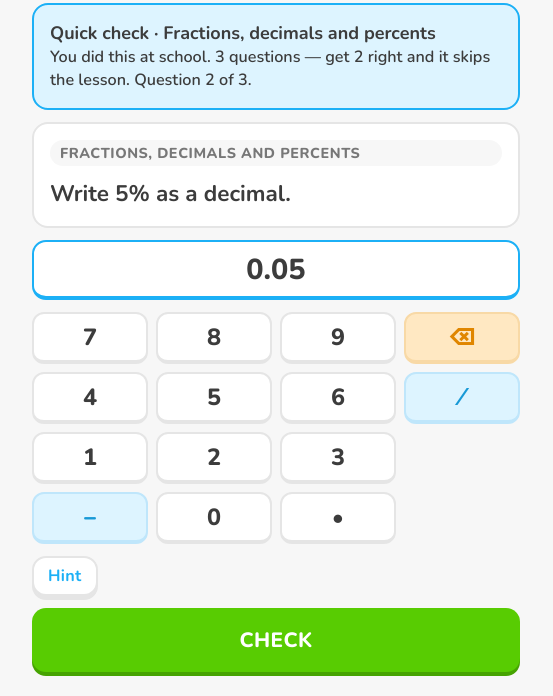
Test: playing a full Daily Mix › starts a brand-new learner with two quick checks on taught skills, percentages first
Earlier steps of the test are not shown.
Later steps or results of the test are not shown.
(page scrolled)
Step 1. Click the button "Check" → (276, 640), box [32,608,520,672]
(page scrolled)
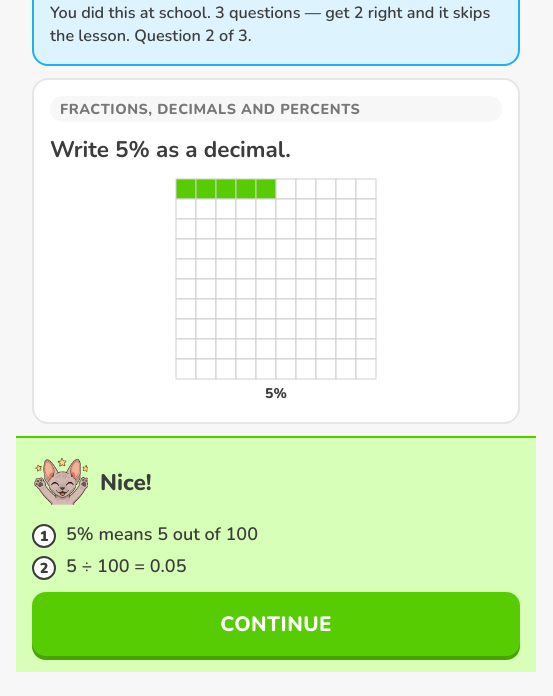
Now the heading "Nice!" is shown, box [100,467,152,498]
Step 2. Click the button "Continue" → (276, 624), box [32,592,520,656]
(page scrolled)
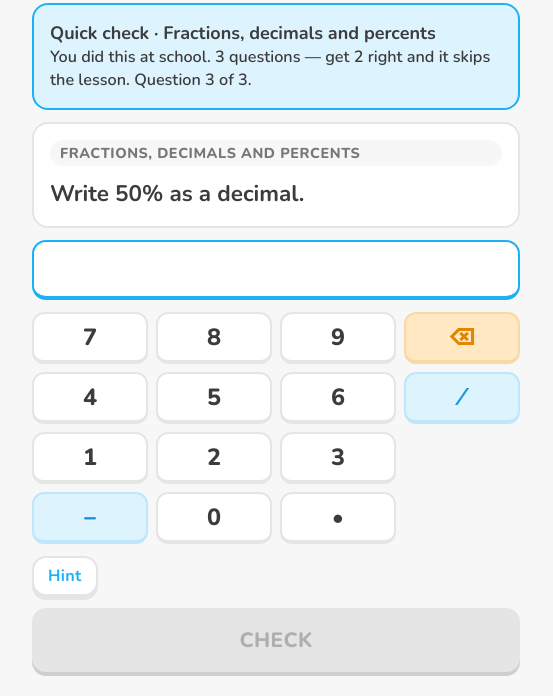
Now the button "Check" is shown, box [32,608,520,672]
Step 3. Type "0.5" into the field named "your answer" → (276, 270), box [32,240,520,300]
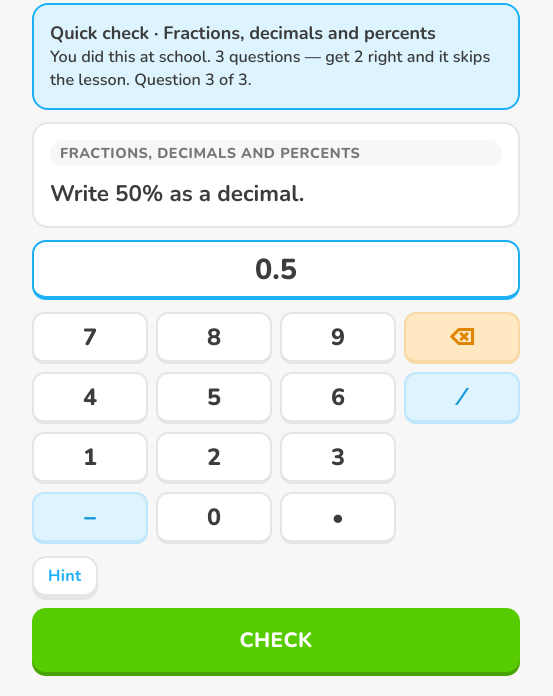
Step 4. Click the button "Check" → (276, 640), box [32,608,520,672]
(page scrolled)
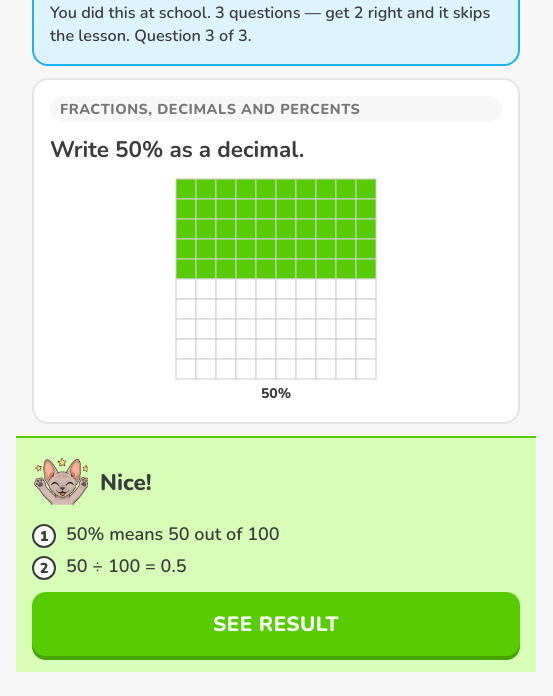
Now the heading "Nice!" is shown, box [100,467,152,498]
Step 5. Click the button "See result" → (276, 624), box [32,592,520,656]
(page scrolled)
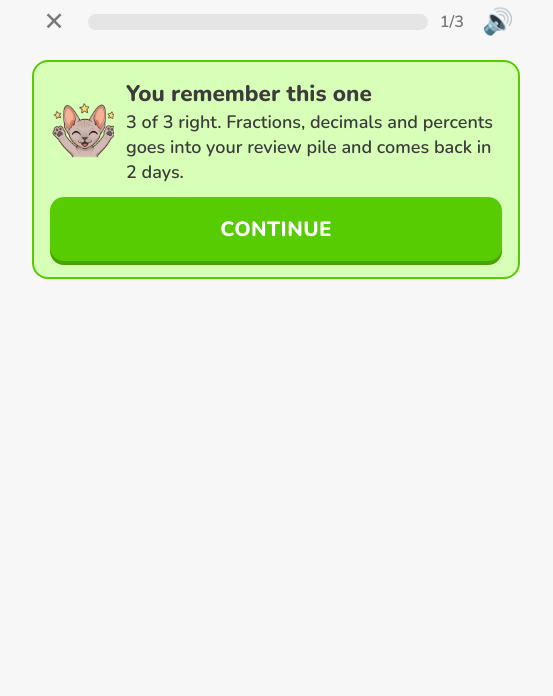
Now the heading "You remember this one" is shown, box [126,78,372,109]
Step 6. Click the button "Continue" → (276, 229), box [50,197,502,261]
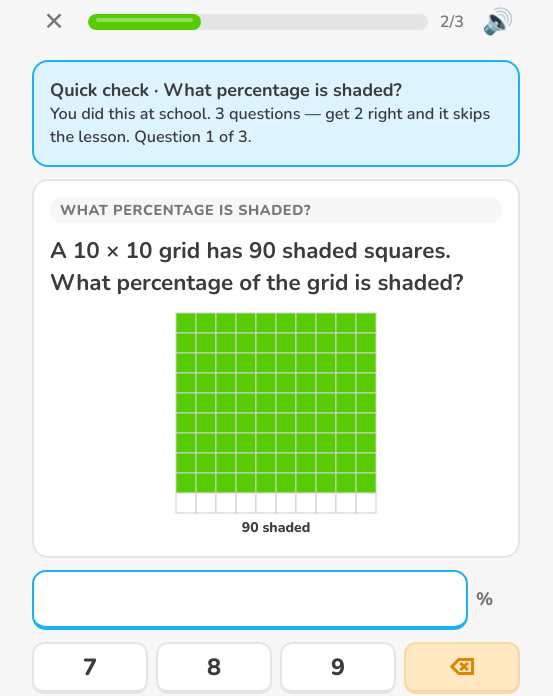
Now the text "Quick check · What percentage is shaded?" is shown, box [50,78,402,102]
